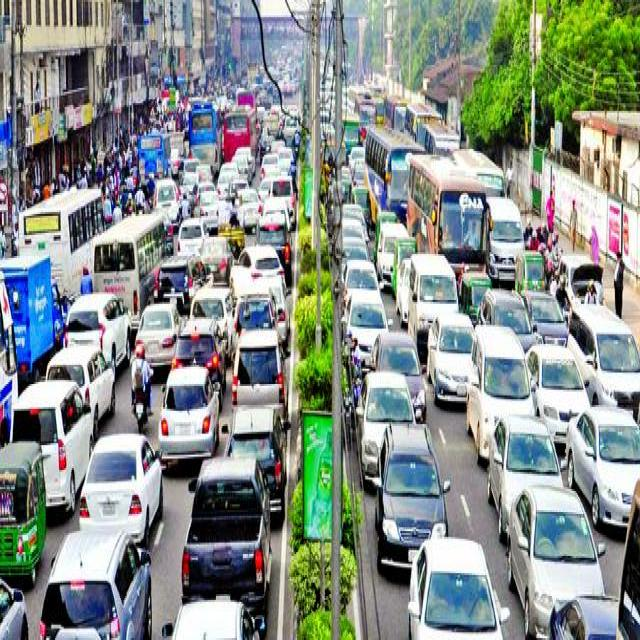bike: (127, 379, 154, 431), (342, 380, 356, 449), (547, 250, 559, 281), (135, 198, 146, 211), (294, 140, 300, 157), (148, 188, 152, 209)
vehicle: (180, 453, 272, 596), (40, 530, 155, 637), (374, 422, 446, 571), (411, 534, 502, 637), (509, 490, 600, 593), (90, 431, 163, 534), (487, 415, 559, 503), (1, 442, 45, 580), (468, 322, 532, 416), (410, 151, 478, 239), (566, 405, 639, 482), (18, 187, 104, 252), (47, 380, 85, 510), (588, 303, 639, 396), (14, 253, 62, 351), (159, 369, 214, 453), (94, 213, 155, 288), (162, 598, 267, 638), (231, 330, 285, 404), (429, 311, 464, 407), (225, 405, 290, 455), (64, 291, 126, 343), (532, 348, 576, 417), (409, 253, 458, 314), (547, 595, 616, 637), (358, 371, 409, 420), (367, 129, 408, 186), (490, 198, 516, 276), (343, 291, 391, 333), (155, 251, 203, 293), (143, 300, 176, 361), (189, 101, 221, 157), (373, 330, 424, 365), (234, 289, 277, 327), (1, 582, 30, 637), (138, 130, 171, 178), (559, 250, 604, 285), (232, 243, 277, 277), (537, 290, 564, 344), (224, 104, 257, 146), (87, 352, 115, 398), (424, 120, 462, 153), (344, 257, 379, 289), (518, 246, 546, 286), (196, 286, 232, 314), (460, 269, 482, 313), (259, 212, 289, 243), (481, 148, 503, 188), (154, 173, 178, 209), (208, 235, 228, 277), (376, 221, 392, 269), (178, 218, 203, 248), (340, 235, 371, 258), (384, 93, 404, 127), (243, 186, 259, 228), (405, 99, 423, 136), (360, 94, 377, 122), (271, 176, 295, 195), (343, 115, 359, 143), (341, 216, 364, 235), (199, 190, 216, 215), (261, 152, 280, 173), (350, 184, 371, 203), (396, 236, 419, 253), (217, 168, 229, 195), (285, 116, 298, 135), (178, 157, 194, 172), (238, 155, 250, 174), (375, 209, 397, 219), (350, 145, 365, 159), (378, 89, 384, 123), (282, 146, 293, 163), (196, 163, 213, 173)
